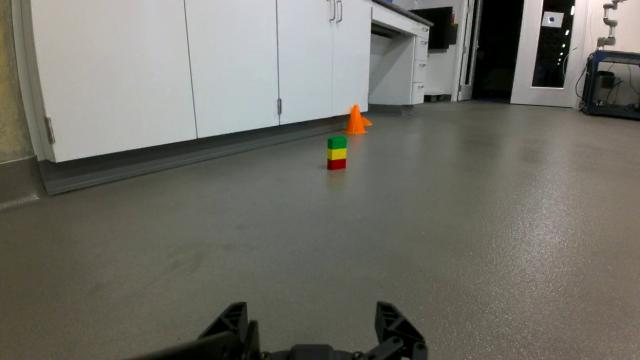lego: (322, 130, 350, 178)
